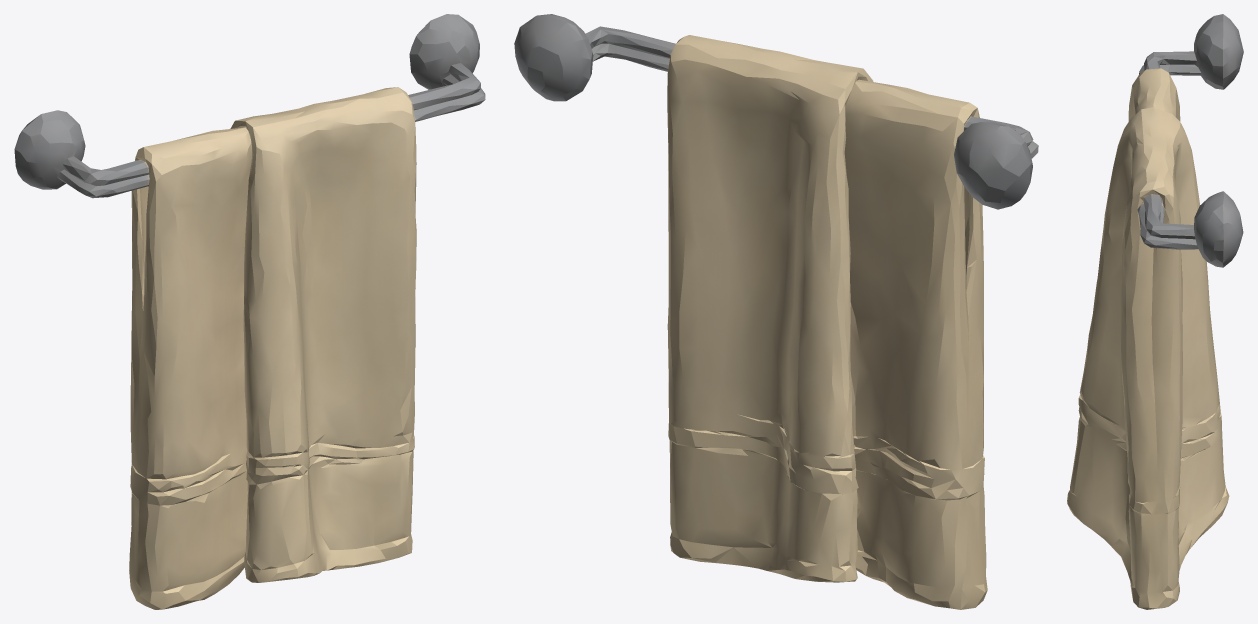
The model's file is towel.glb.
3 renders of one model, left to right at view 1: azimuth 30°, elevation 25°; view 2: azimuth 150°, elevation 25°; view 3: azimuth 270°, elevation 25°, orthographic. The views are drawn at different scales.
Parts seen in each view (by area): view 1: model; view 2: model; view 3: model.
Part boxes in pixels (box(x1,y1,x2,y2)): model: box(14, 14, 485, 609); model: box(514, 14, 1038, 609); model: box(1067, 14, 1243, 609).
Size of the model in its own units: 1.9 by 1.9 by 0.68.
1 material, 1 textured.
